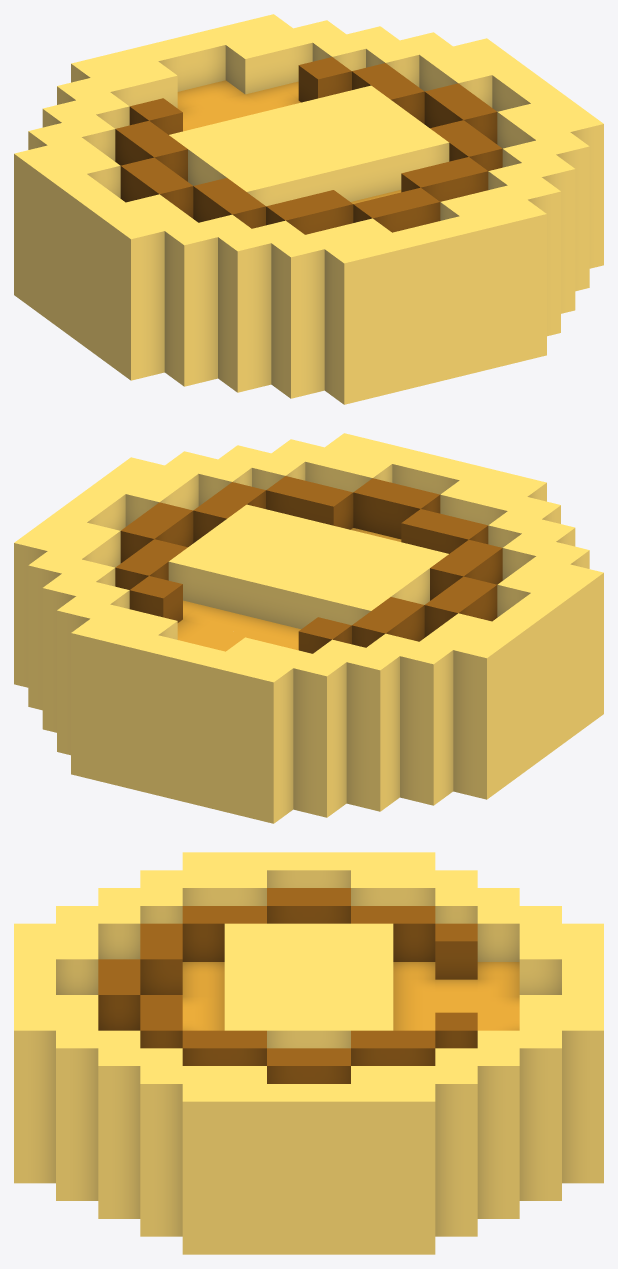
File: coin.glb
3 renders of one model, top to bottom at view 1: azimuth 30°, elevation 25°; view 2: azimuth 150°, elevation 25°; view 3: azimuth 270°, elevation 25°, orthographic. The views are drawn at different scales.
Visible parts, largest first — view 1: coin_body; view 2: coin_body; view 3: coin_body.
Boxes of the visible parts, <box> form: coin_body: <box>14,14,603,404</box>; coin_body: <box>14,433,603,823</box>; coin_body: <box>14,852,603,1254</box>.
Size of the model in its own units: 0.875 by 0.25 by 0.875.
Materials: 1 (1 with a texture image).
